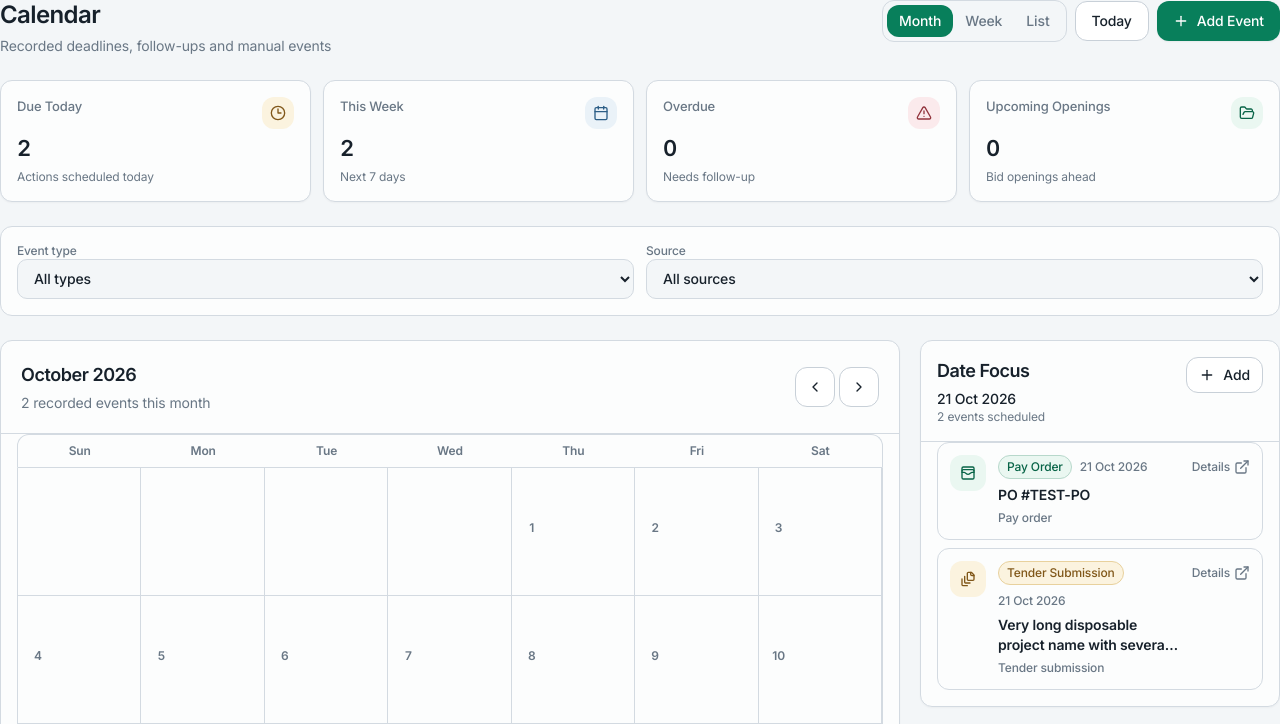
Test: Calendar and To-Do with disposable records › calendar filters recorded sources, shows full details and opens source record
This screenshot has width=1280, height=724.
Select "Pay orders" in the dropdown named "Event source" at (954, 278), box [646,258,1263,298]
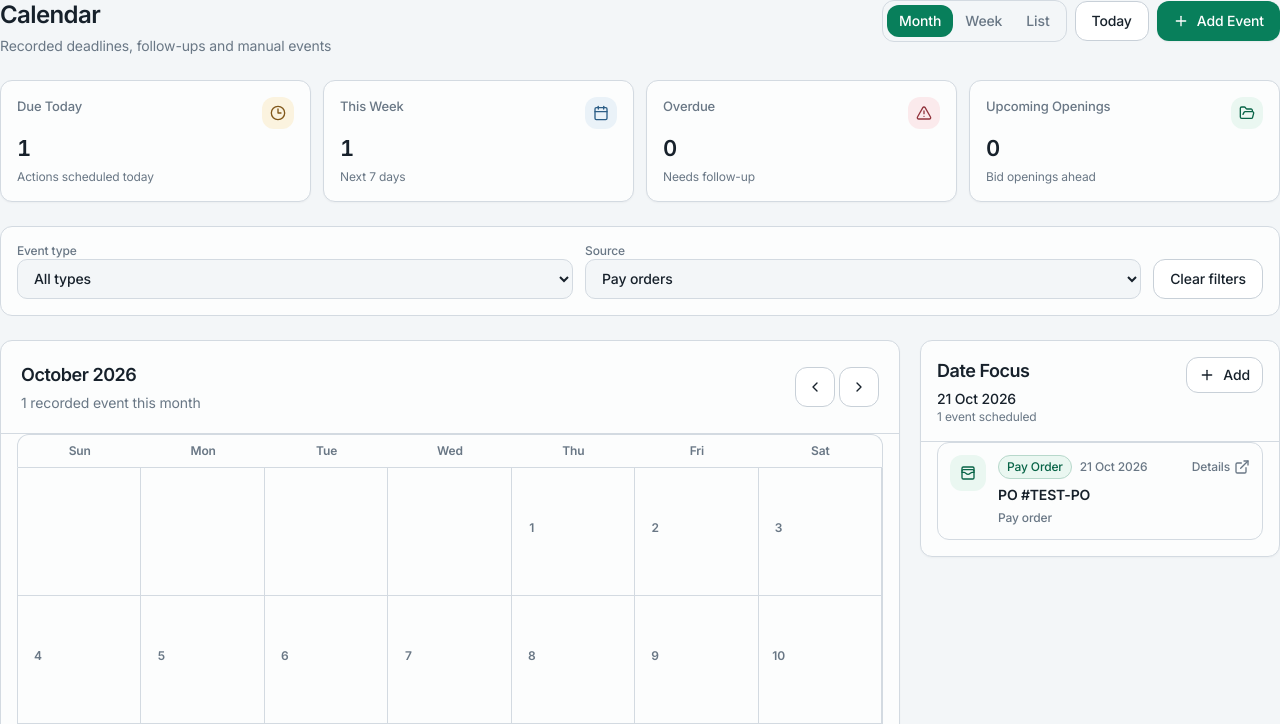
Click the button "Pay Order 21 Oct 2026 PO #TEST-PO Pay order Details" at (968, 472), box [937,442,1263,540]
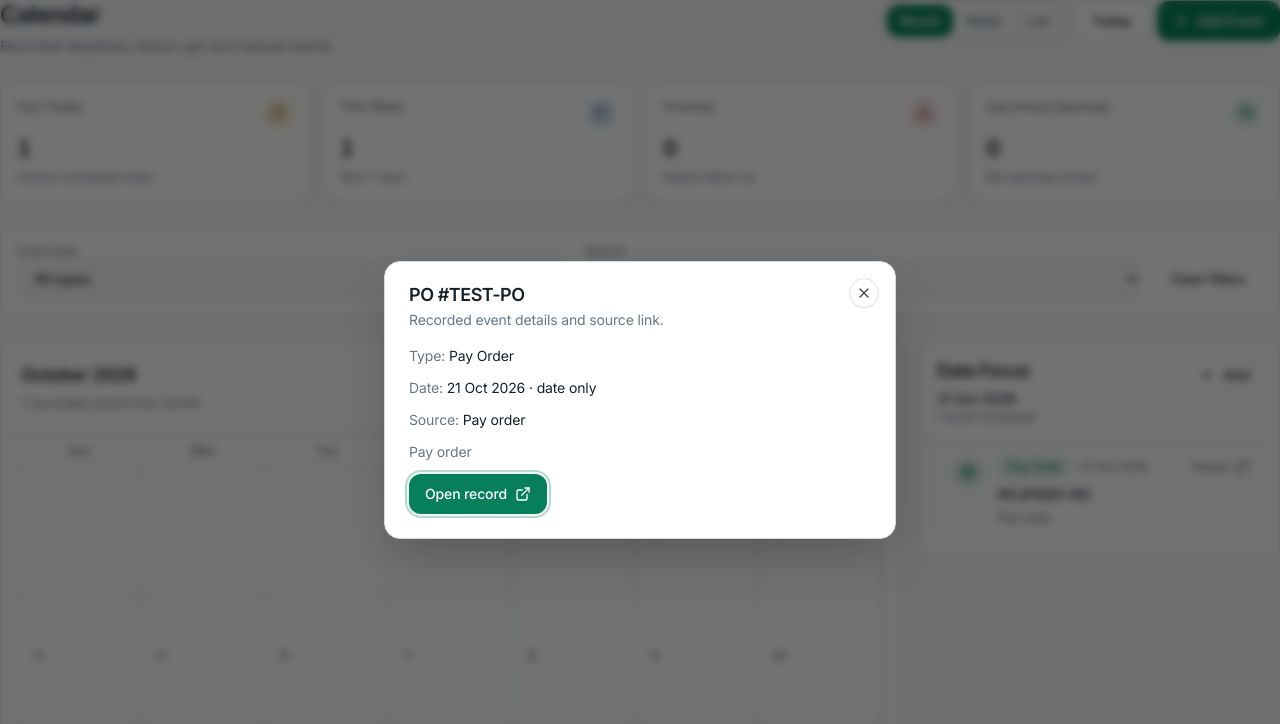
Expected: the button "Open record" is shown, [409,474,547,514]
